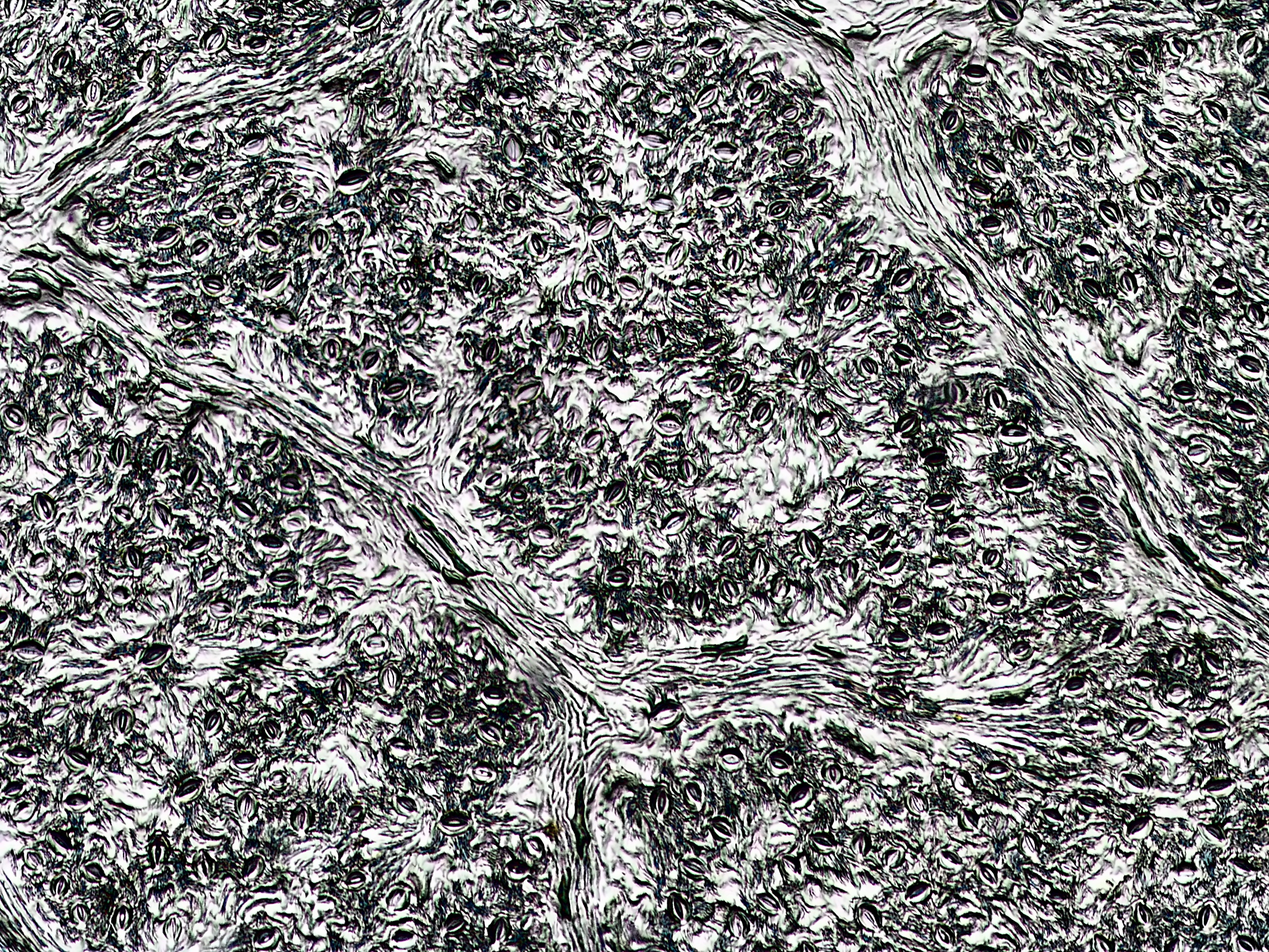stomata: (10, 28, 44, 63), (648, 701, 686, 732), (1189, 715, 1231, 742), (873, 682, 911, 710), (1096, 618, 1127, 651), (647, 788, 675, 824), (139, 642, 173, 671), (1226, 395, 1260, 424), (1168, 858, 1207, 883), (335, 168, 372, 194), (988, 0, 1025, 26), (792, 350, 818, 386), (350, 4, 383, 32), (422, 700, 456, 727), (511, 381, 542, 410), (1069, 131, 1098, 162), (474, 719, 506, 747), (794, 529, 822, 561), (1213, 152, 1245, 180), (646, 190, 680, 216), (1211, 521, 1249, 544), (578, 428, 608, 457), (889, 267, 919, 296), (138, 49, 162, 85), (147, 835, 171, 871), (379, 662, 405, 695), (234, 787, 257, 824), (1154, 607, 1188, 632), (855, 903, 884, 932), (668, 892, 692, 927), (1122, 714, 1152, 742), (662, 506, 689, 537), (938, 104, 965, 135), (50, 45, 76, 77), (1016, 828, 1042, 860), (1202, 773, 1238, 796), (999, 422, 1032, 447), (0, 404, 28, 433), (749, 399, 777, 428), (655, 410, 685, 437), (1012, 125, 1038, 156), (81, 76, 106, 108), (180, 534, 212, 559), (77, 443, 101, 476), (13, 639, 46, 663), (332, 674, 356, 707), (397, 309, 425, 337), (1175, 305, 1203, 333), (232, 494, 259, 523), (659, 3, 688, 30), (722, 370, 751, 397), (718, 745, 745, 774), (438, 813, 472, 836), (526, 520, 556, 546), (1077, 566, 1107, 592), (111, 705, 136, 736), (174, 779, 205, 804), (877, 550, 908, 575), (1047, 60, 1078, 85), (1061, 673, 1092, 698), (665, 237, 689, 269), (487, 913, 510, 946), (1046, 593, 1079, 616), (253, 531, 289, 552), (482, 682, 510, 709), (1126, 45, 1153, 73), (1202, 99, 1230, 126), (1096, 201, 1124, 228), (1236, 355, 1264, 382), (833, 289, 859, 318), (854, 249, 880, 278), (468, 759, 497, 785), (1136, 176, 1162, 205), (89, 210, 119, 235), (604, 565, 634, 590), (1068, 531, 1098, 556), (726, 909, 751, 939), (591, 332, 613, 366), (150, 224, 181, 248), (292, 804, 316, 835), (387, 926, 418, 950), (1035, 203, 1059, 234), (193, 848, 216, 880), (645, 320, 668, 352), (1225, 854, 1257, 877), (1114, 94, 1141, 121), (200, 24, 226, 52), (744, 79, 770, 107), (765, 750, 793, 776), (1205, 194, 1233, 220), (259, 271, 288, 296), (587, 212, 612, 241), (713, 536, 742, 561), (1152, 126, 1181, 151), (1211, 273, 1240, 298), (985, 757, 1014, 782), (31, 490, 55, 520), (501, 134, 525, 164), (385, 882, 409, 912), (984, 590, 1014, 614), (427, 244, 450, 275), (707, 185, 738, 208), (1074, 496, 1105, 519), (679, 856, 710, 879), (565, 461, 587, 493), (757, 270, 783, 297), (787, 783, 813, 810), (82, 384, 107, 412), (11, 799, 39, 824), (894, 412, 922, 437), (243, 32, 272, 56), (211, 202, 240, 226), (251, 926, 280, 950), (933, 921, 957, 950), (800, 181, 833, 202), (540, 123, 563, 153), (806, 831, 836, 854), (747, 549, 770, 579), (753, 892, 784, 914), (769, 572, 791, 603), (1148, 235, 1179, 257), (1169, 380, 1200, 402), (109, 434, 129, 468), (797, 279, 823, 305), (9, 89, 34, 116), (471, 271, 496, 298), (438, 667, 465, 692), (839, 485, 866, 510), (708, 817, 735, 842), (977, 151, 1002, 178), (98, 6, 126, 30), (150, 498, 171, 530), (48, 825, 72, 853), (242, 854, 266, 882), (341, 870, 373, 891), (1003, 473, 1035, 494), (1121, 770, 1149, 794), (1200, 821, 1228, 845), (361, 633, 390, 656), (822, 757, 845, 786), (849, 830, 872, 859), (5, 744, 35, 766), (888, 592, 918, 614), (112, 904, 133, 935), (583, 269, 604, 300), (723, 244, 744, 275), (616, 276, 642, 301), (813, 411, 838, 437), (1078, 279, 1104, 304), (1203, 650, 1229, 675), (270, 307, 297, 331), (555, 20, 582, 44), (641, 454, 665, 481), (678, 453, 697, 487), (200, 274, 228, 297), (202, 709, 225, 737), (309, 226, 331, 255), (282, 511, 311, 533), (379, 379, 408, 401), (479, 334, 501, 363), (924, 491, 953, 513), (839, 556, 861, 585), (925, 620, 954, 642), (545, 323, 566, 353), (242, 132, 267, 157), (276, 190, 301, 215), (66, 744, 91, 769), (779, 856, 804, 881), (209, 597, 235, 621), (627, 37, 651, 63), (693, 83, 719, 107), (904, 789, 928, 815), (1164, 33, 1190, 57), (1166, 647, 1192, 671), (1078, 792, 1104, 816), (253, 228, 280, 251), (616, 82, 643, 105), (975, 862, 998, 889), (886, 628, 913, 651), (1021, 251, 1044, 278), (488, 50, 519, 70), (241, 4, 269, 26), (43, 702, 71, 724), (751, 233, 779, 255), (606, 477, 628, 505), (937, 849, 965, 871), (699, 335, 728, 356), (718, 576, 739, 605), (1245, 299, 1266, 328), (112, 502, 137, 526), (66, 571, 91, 595), (196, 564, 221, 588), (268, 569, 298, 589), (766, 197, 791, 221), (395, 793, 420, 817), (929, 555, 954, 579), (1129, 817, 1154, 841), (375, 95, 398, 121), (583, 160, 606, 186), (638, 131, 671, 149), (388, 735, 415, 757), (934, 308, 961, 330), (683, 780, 705, 807), (1239, 29, 1258, 60), (64, 792, 92, 813), (488, 0, 516, 21), (499, 87, 527, 108), (903, 883, 931, 904), (231, 753, 260, 773), (961, 65, 990, 85), (964, 180, 993, 200), (1055, 746, 1084, 766), (1134, 899, 1154, 928), (695, 37, 729, 54), (880, 847, 904, 871), (1215, 465, 1239, 489), (78, 337, 101, 362), (29, 552, 54, 575), (651, 91, 674, 116), (1075, 711, 1100, 734), (945, 524, 971, 546), (689, 588, 708, 618), (38, 353, 65, 374), (280, 473, 307, 494), (1076, 243, 1103, 264), (152, 442, 170, 473), (1199, 901, 1217, 932), (189, 238, 212, 262), (226, 680, 249, 704), (957, 808, 980, 832), (163, 914, 182, 943), (1041, 288, 1060, 317), (48, 413, 70, 438), (267, 769, 292, 791), (260, 717, 282, 742), (712, 140, 737, 162), (983, 545, 1005, 570), (1186, 442, 1211, 464), (524, 232, 545, 258), (953, 769, 974, 795), (922, 446, 949, 466), (865, 524, 892, 544), (1165, 685, 1192, 705), (180, 159, 203, 182), (1088, 57, 1111, 80), (944, 594, 968, 616), (258, 621, 283, 642), (504, 859, 529, 880), (1041, 805, 1066, 826), (2, 0, 29, 19), (1006, 640, 1033, 659), (359, 67, 382, 89), (856, 355, 878, 378), (83, 862, 107, 883), (361, 348, 382, 372), (780, 147, 808, 165), (978, 212, 1002, 233), (986, 387, 1006, 412), (1117, 270, 1137, 295), (1232, 933, 1258, 952), (682, 279, 709, 297), (257, 170, 279, 192), (321, 336, 341, 360), (658, 579, 678, 603), (185, 131, 210, 150), (260, 435, 279, 460), (110, 586, 136, 604), (1251, 90, 1269, 116), (387, 186, 409, 207), (396, 275, 417, 297), (779, 102, 800, 124), (71, 902, 90, 926), (665, 60, 689, 79), (1243, 210, 1262, 234), (500, 192, 521, 213), (133, 161, 155, 181), (535, 52, 555, 74), (458, 94, 480, 114), (1134, 670, 1156, 690), (525, 836, 544, 859), (893, 342, 916, 361), (569, 110, 589, 131), (170, 309, 192, 328), (445, 912, 464, 934), (123, 547, 141, 570), (462, 210, 480, 233), (184, 463, 199, 490), (1195, 0, 1226, 13), (24, 849, 43, 870), (609, 612, 631, 630), (391, 242, 411, 261), (485, 469, 504, 489), (1055, 454, 1074, 474), (235, 464, 253, 485), (51, 874, 68, 896), (1092, 933, 1111, 952), (135, 744, 152, 765), (296, 707, 313, 728), (509, 482, 526, 503), (1, 782, 26, 796), (1164, 937, 1187, 952), (0, 605, 12, 629)
